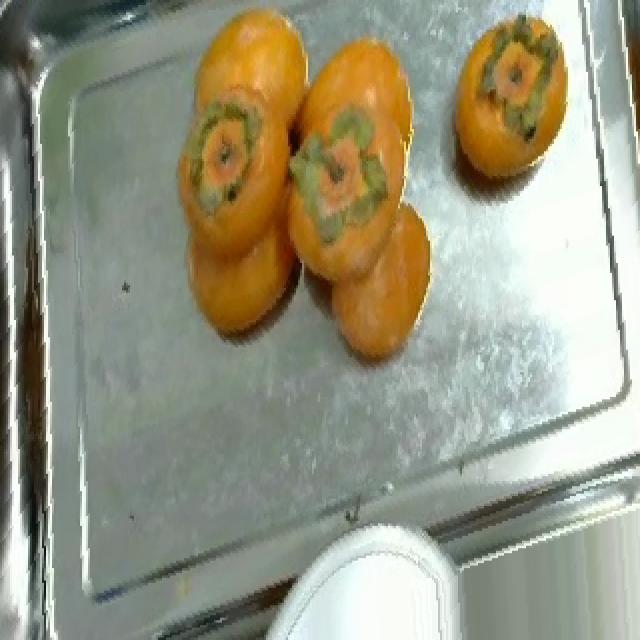Fruit: (436, 0, 580, 196)
